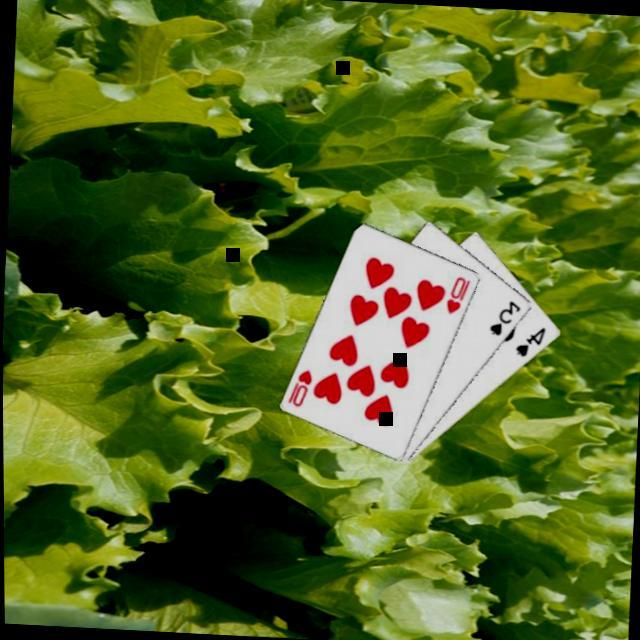10H: (443, 274, 474, 320), (286, 367, 316, 412)
3S: (487, 298, 525, 342)
4S: (512, 324, 548, 362)
